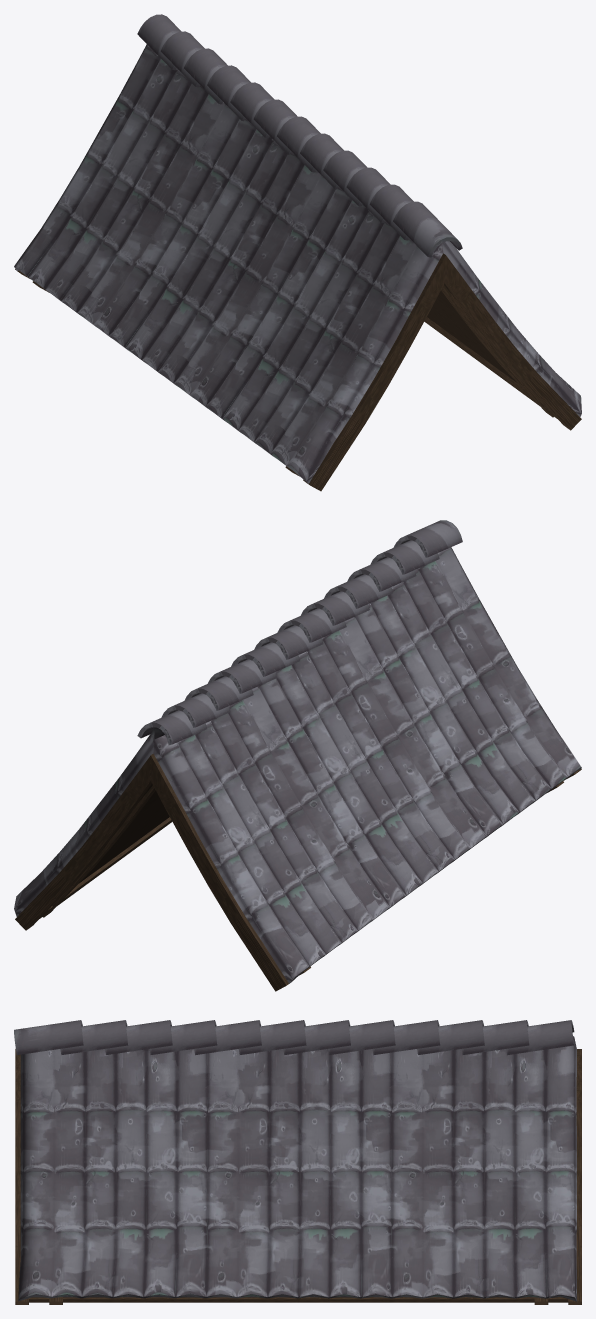
File: Roof_RoundTiles_4x8.gltf
The picture shows the model from 3 angles, top to bottom: view 1: azimuth 30°, elevation 25°; view 2: azimuth 150°, elevation 25°; view 3: azimuth 270°, elevation 25°; orthographic projection. The views are drawn at different scales.
Visible parts, largest first — view 1: Roof_RoundTiles_4x8; view 2: Roof_RoundTiles_4x8; view 3: Roof_RoundTiles_4x8.
Part boxes in pixels (x1=…): Roof_RoundTiles_4x8: x1=14, y1=14, x2=581, y2=491; Roof_RoundTiles_4x8: x1=14, y1=520, x2=581, y2=991; Roof_RoundTiles_4x8: x1=14, y1=1020, x2=581, y2=1304.
Bounding box in the file's own units: 5.51 × 4.23 × 9.68.
2 materials, 2 textured.
